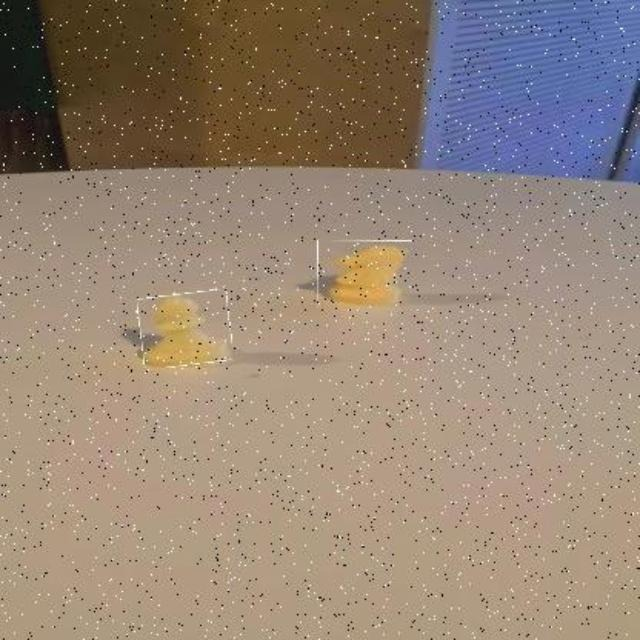white-bishop: (140, 291, 232, 366)
white-knight: (316, 240, 419, 309)
